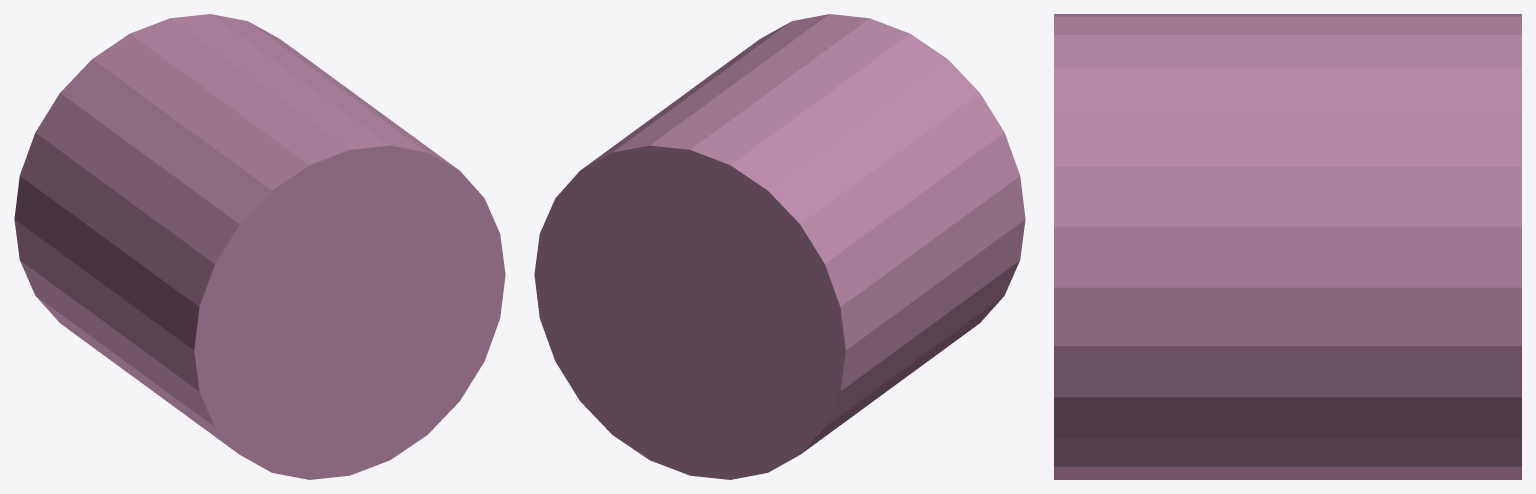
The picture shows the model from 3 angles, left to right: view 1: azimuth 30°, elevation 25°; view 2: azimuth 150°, elevation 25°; view 3: azimuth 270°, elevation 25°; orthographic projection. The views are drawn at different scales.
Parts seen in each view (by area): view 1: world; view 2: world; view 3: world.
Boxes of the visible parts, <box> form: world: <box>14,14,505,479</box>; world: <box>534,14,1025,479</box>; world: <box>1054,14,1521,479</box>.
Size of the model in its own units: 0.07 by 0.07 by 0.07.
